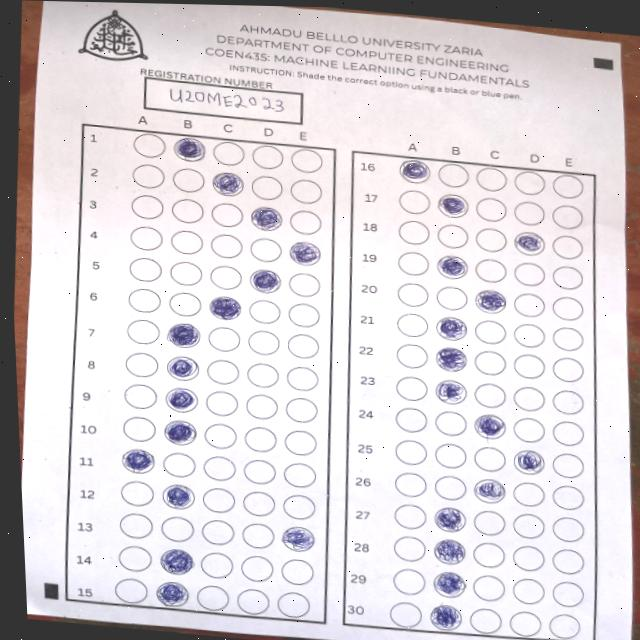bubble: (158, 547, 195, 576), (431, 570, 468, 599), (428, 602, 464, 631), (209, 169, 246, 197), (161, 418, 198, 446), (163, 385, 199, 413), (280, 525, 316, 553), (154, 580, 190, 608), (171, 136, 208, 163), (432, 538, 467, 566), (166, 321, 202, 348), (120, 447, 156, 474), (471, 413, 507, 440), (160, 483, 196, 510), (432, 505, 466, 533), (165, 354, 200, 381), (471, 477, 506, 504), (288, 240, 322, 267), (512, 448, 546, 475), (249, 205, 283, 232), (207, 295, 242, 321), (433, 346, 468, 372), (249, 267, 282, 294), (435, 254, 469, 280), (435, 315, 469, 341), (473, 288, 507, 314), (511, 230, 545, 256), (434, 379, 468, 405), (398, 158, 430, 183), (436, 194, 468, 218)
